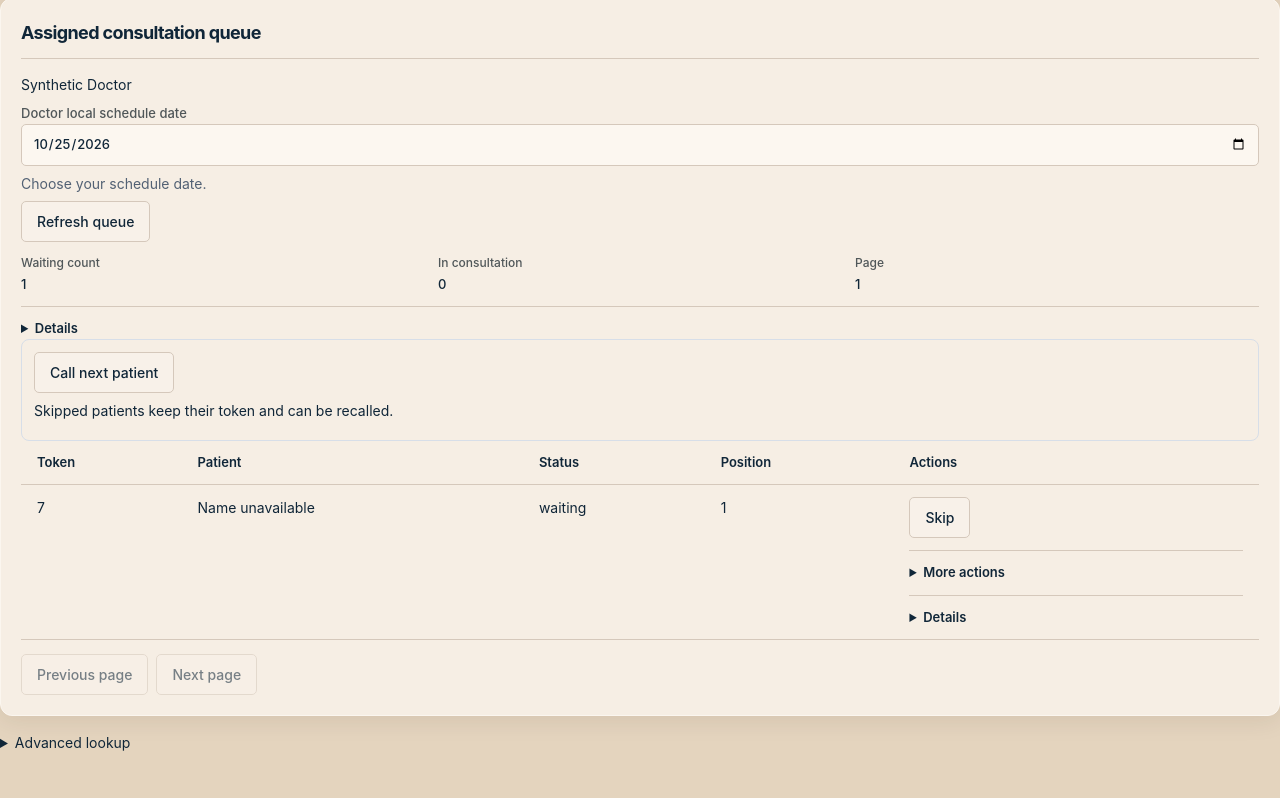
Test: doctor consultation queue › reports queue-head conflicts and refreshes the snapshot
expect the table is shown: met, box top-left (21, 440), bottom-right (1259, 640)
Click the button "Call next patient" at (104, 372), box top-left (34, 352), bottom-right (174, 392)
(page scrolled)
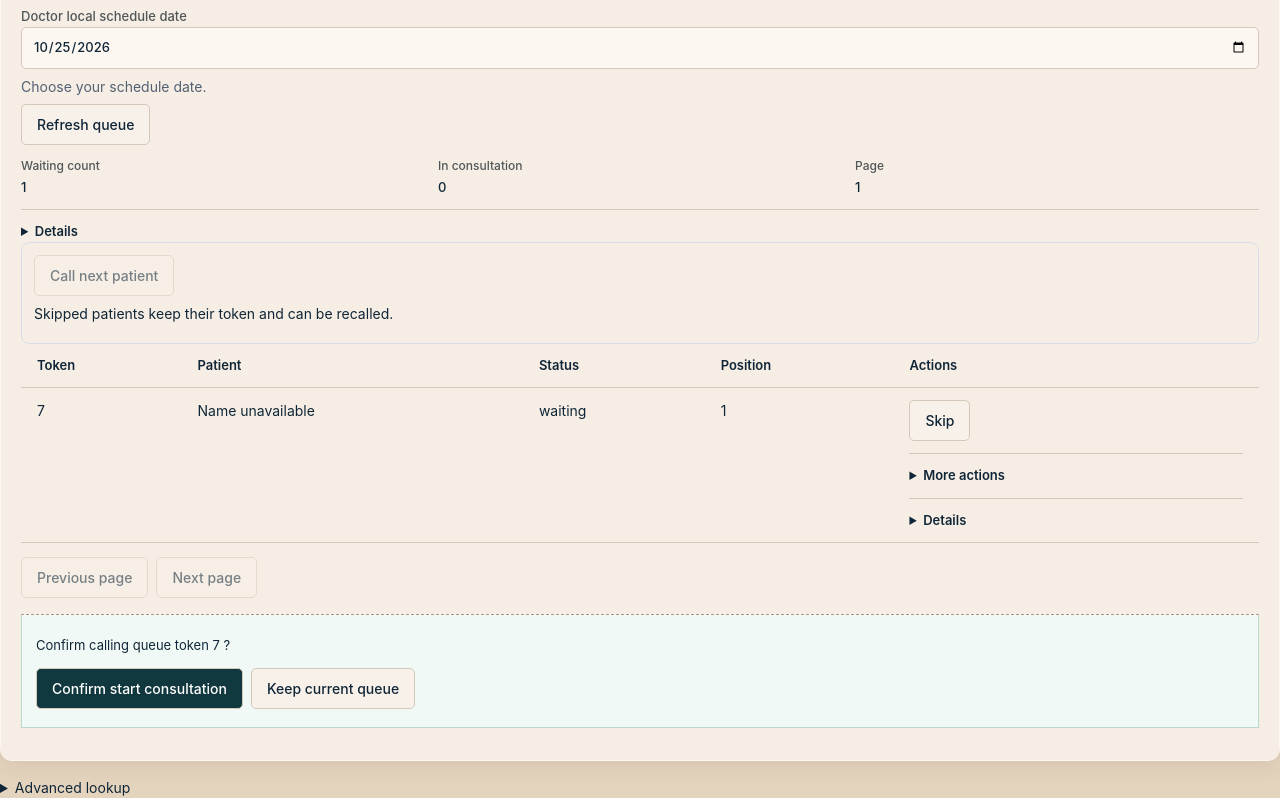
Click the button "Confirm start consultation" at (139, 688), box top-left (36, 668), bottom-right (243, 708)
(page scrolled)
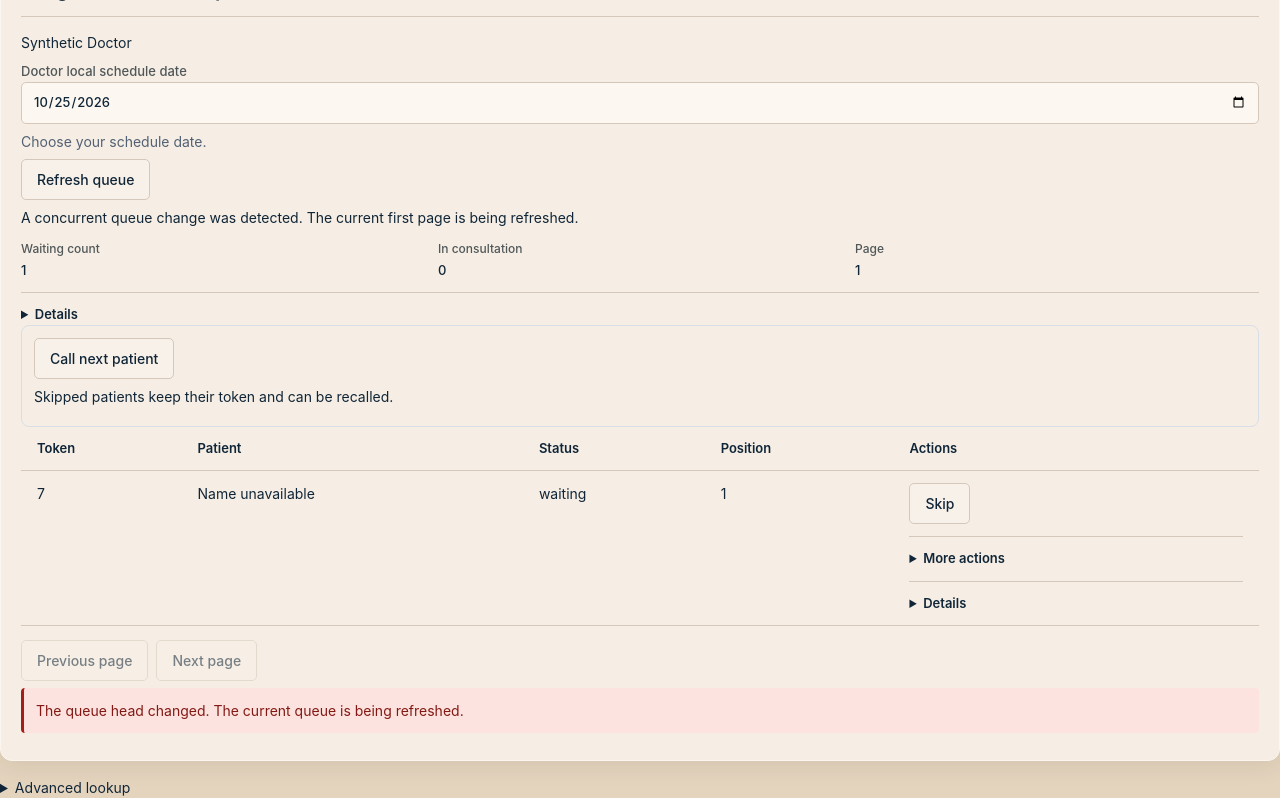
expect the message "The queue head changed. The current queue is being refreshed." is shown: met, box top-left (21, 688), bottom-right (1259, 733)
